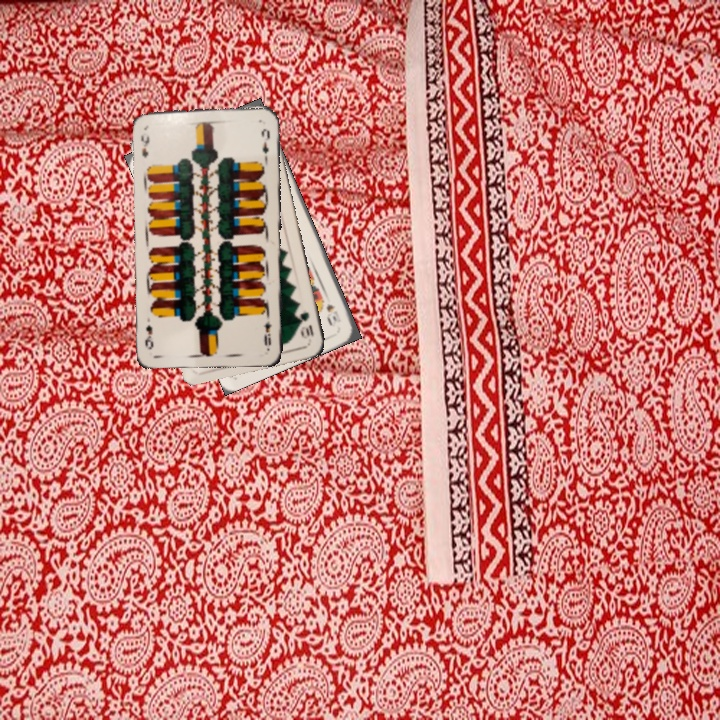E9: (137, 131, 152, 160), (260, 317, 274, 348)
G10: (296, 308, 316, 341)
S10: (322, 299, 344, 325)
